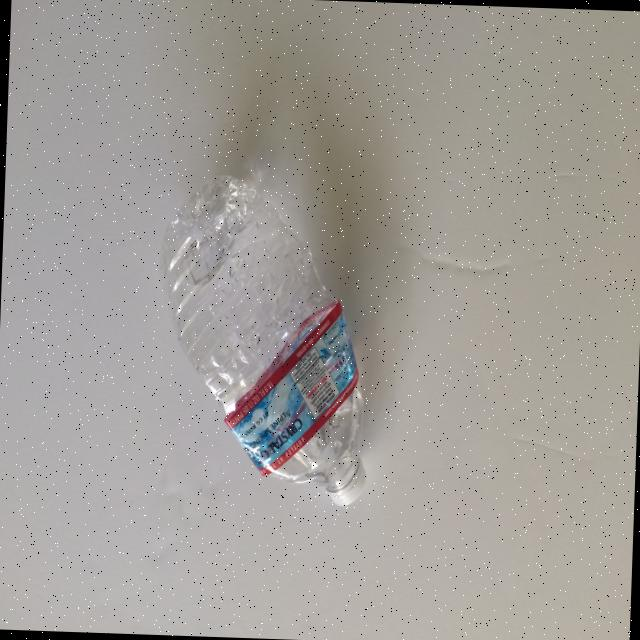plastic: (150, 170, 376, 507)
